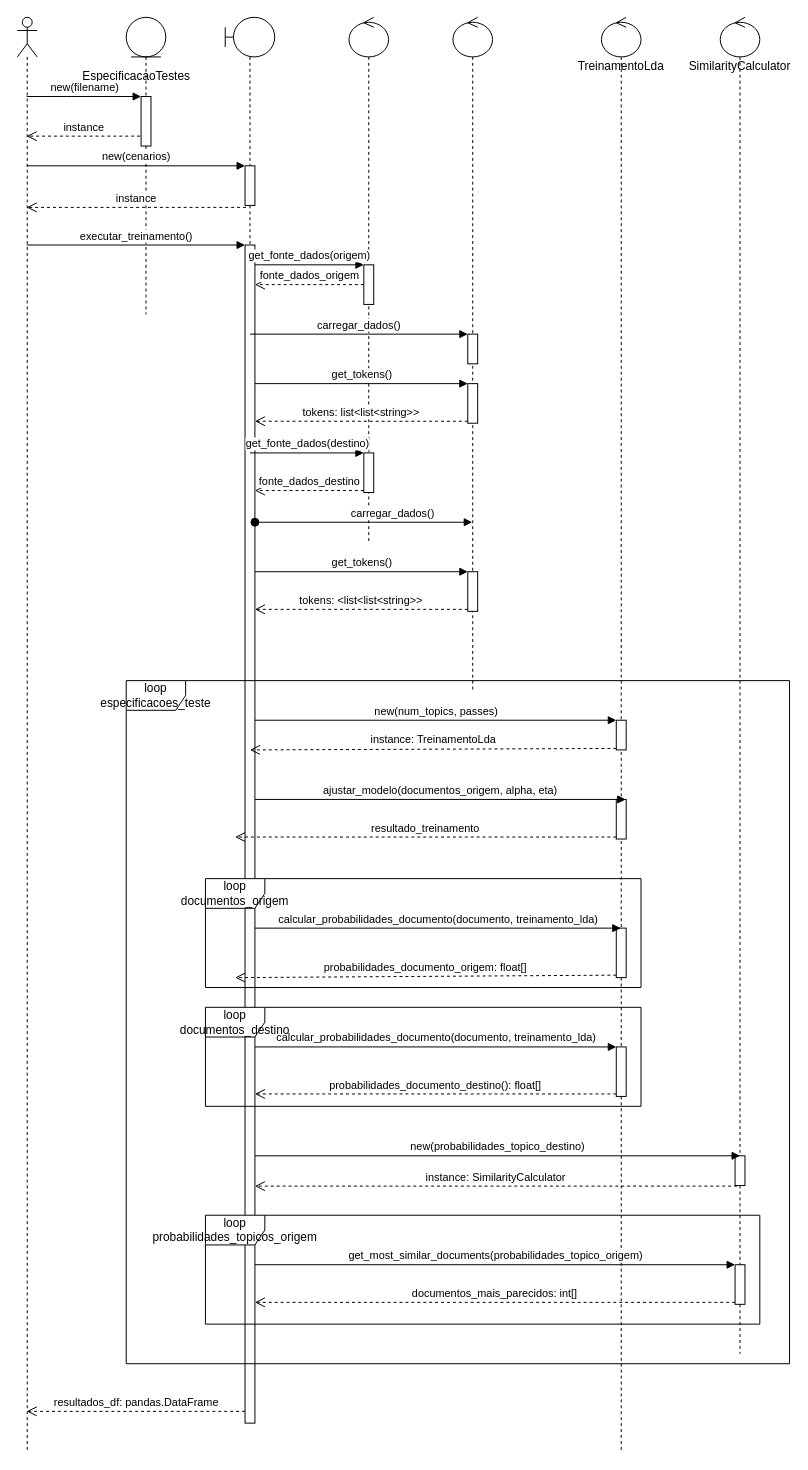
Image size: 808x1470. Some labels were removed from this diagram. Each missing label, with the box of its shape:
Executor Treinamento: (224, 16, 275, 314)
FabricaFonteDados: (348, 16, 389, 542)
NerdsViajantes: (452, 16, 493, 691)
